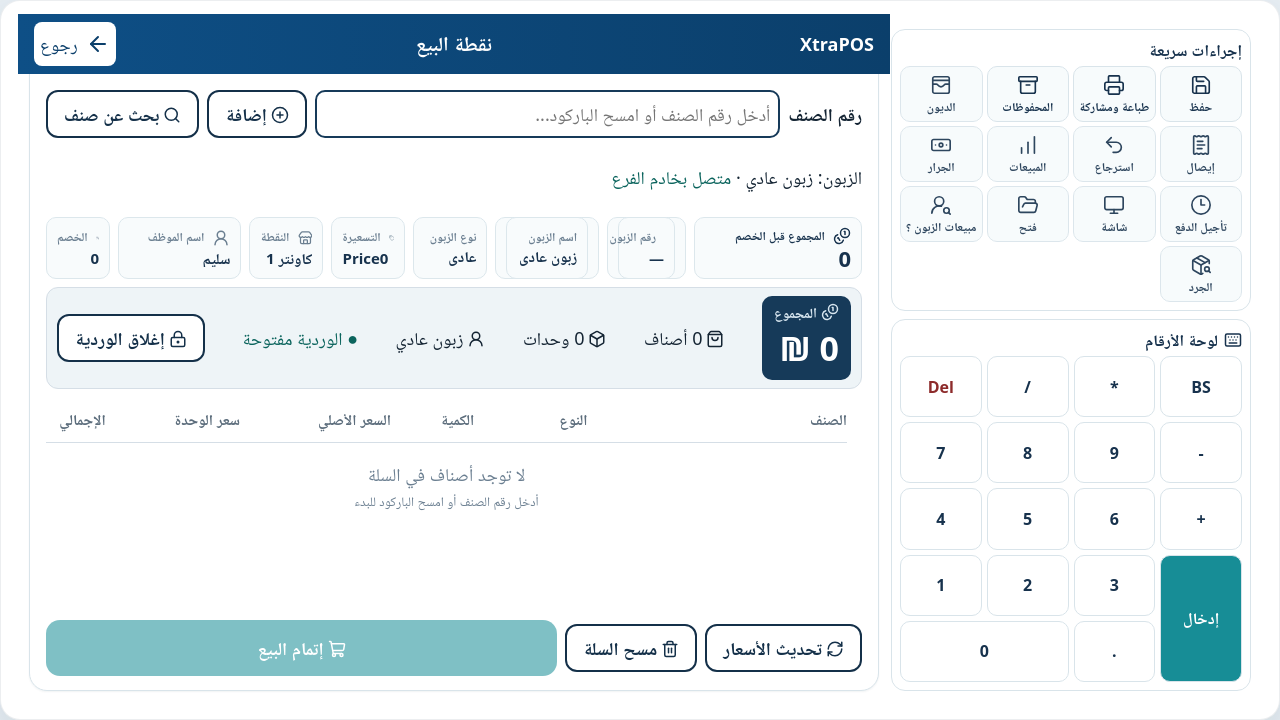
Scenario: POS cashier screen › loads an existing open shift and blocks closing over an unsold cart
expect the text "● الوردية مفتوحة" is shown: met, box [242, 324, 358, 352]
expect the button "إتمام البيع" is shown: met, box [46, 620, 558, 676]
Type "#224" into the field labelled "رقم الصنف" at point(548, 114), box [315, 90, 780, 138]
Then press Enter
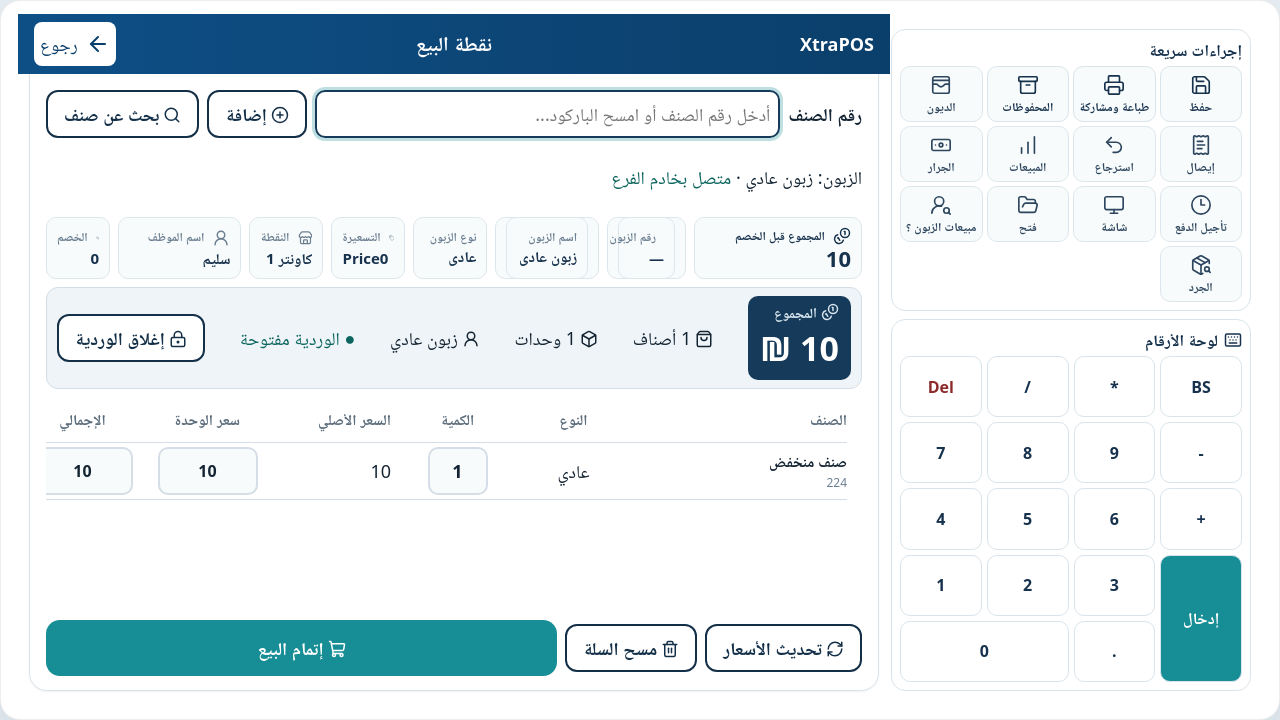
expect the text "صنف منخفض" is shown: met, box [769, 451, 847, 471]
Click the button "إغلاق الوردية" at point(131, 338), box [57, 314, 205, 362]
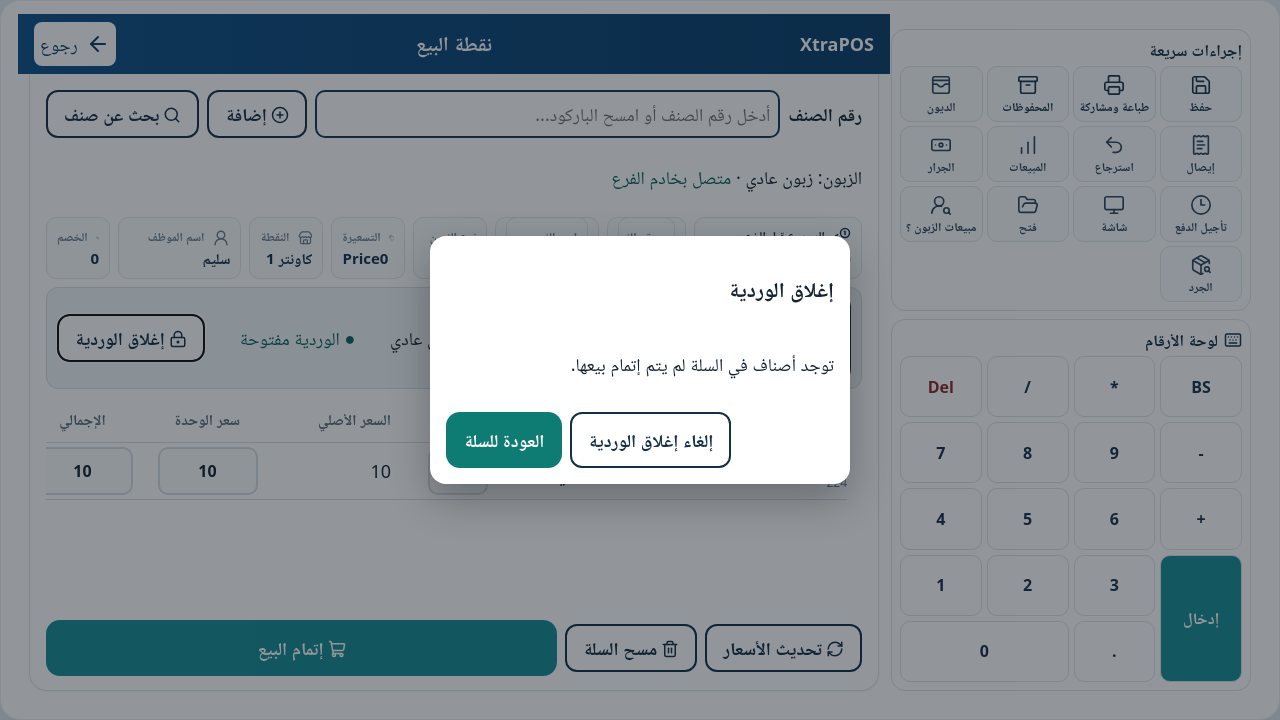
expect the text "توجد أصناف في السلة لم يتم إتمام بيعها." is shown: met, box [571, 352, 834, 376]
Click the button "العودة للسلة" at point(504, 440), box [446, 412, 562, 468]
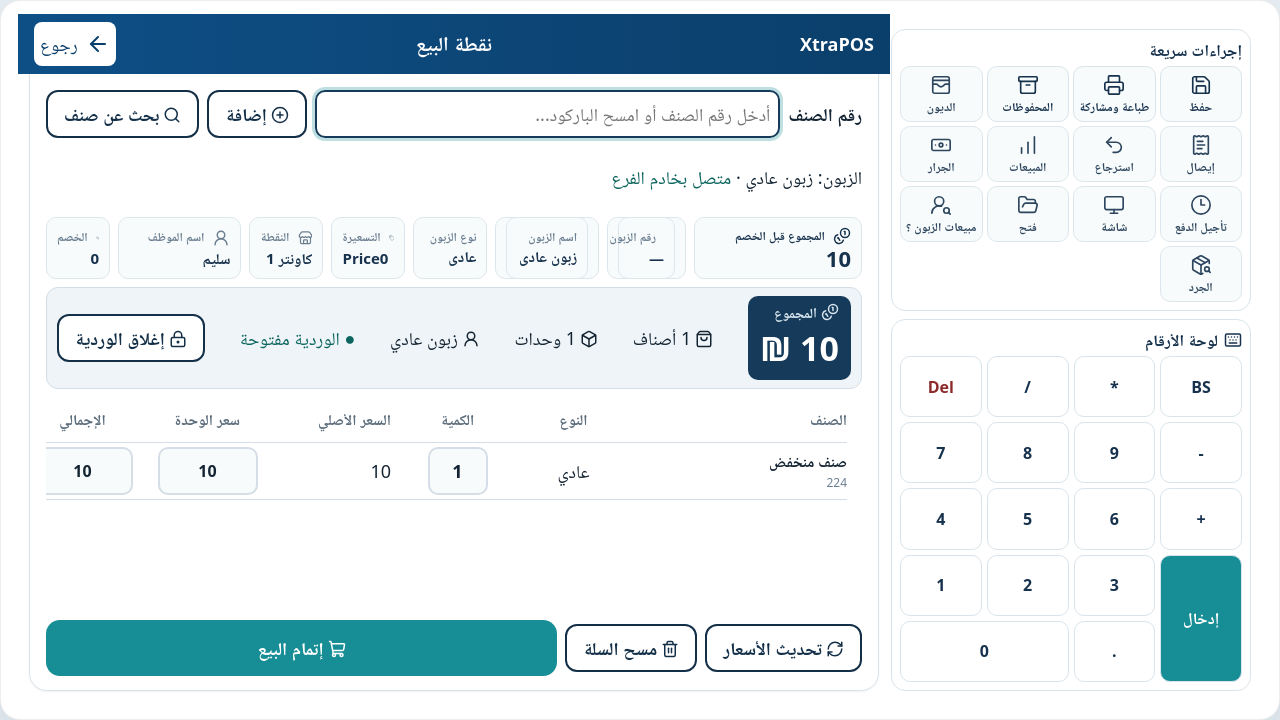
expect the text "صنف منخفض" is shown: met, box [769, 451, 847, 471]
expect the text "توجد أصناف في السلة" is gone: met
